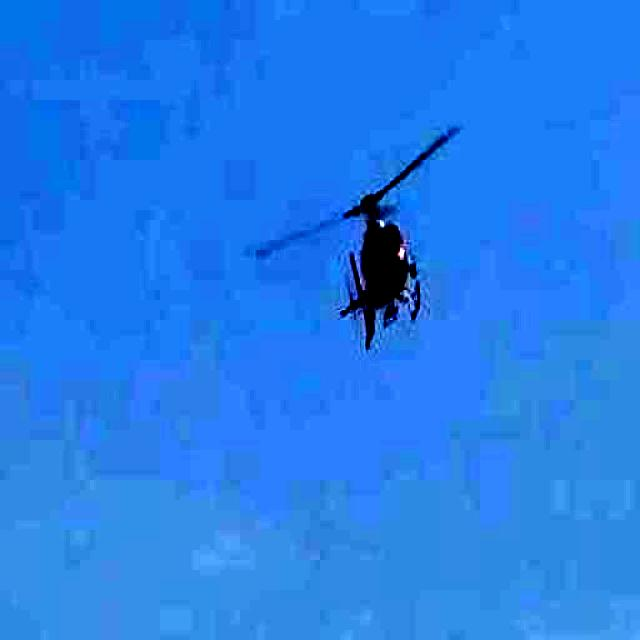drone: (241, 102, 495, 354)
